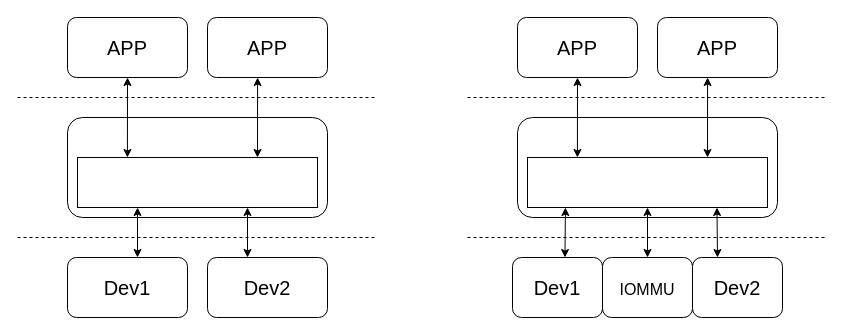
The diagram is 846 pixels wide and 335 high, and some of its shapes have lost their labels. Here are the shapes that lost their labels. From the top down, the centre of each, then its label:
At point 197,182: "UIO".
At point 647,182: "VFIO".
